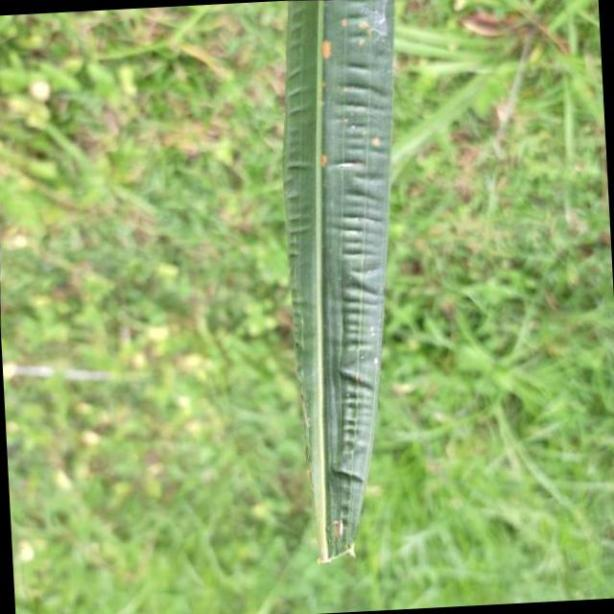Boron: (280, 0, 395, 564)
